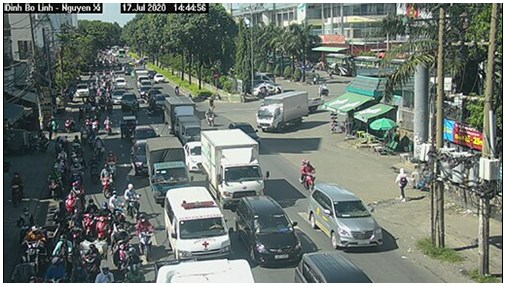di_bo: (396, 165, 411, 204)
xe_ba_gac: (21, 221, 56, 264), (120, 115, 139, 137)
xe_cuu_thuong: (163, 187, 232, 258)
xe_hoi: (308, 185, 383, 250), (233, 195, 301, 266), (295, 253, 375, 283), (128, 138, 150, 178), (185, 141, 203, 171), (120, 91, 141, 115)
xe_may: (129, 208, 159, 259), (5, 165, 31, 207), (123, 245, 148, 286), (89, 195, 114, 236), (78, 194, 101, 236), (51, 229, 75, 269), (60, 179, 87, 214), (105, 187, 128, 227), (87, 131, 111, 164), (52, 196, 71, 236), (296, 155, 316, 190), (90, 261, 120, 284), (126, 175, 141, 218), (67, 157, 88, 185), (115, 234, 132, 268), (97, 160, 115, 192), (105, 145, 122, 176), (41, 168, 59, 197), (84, 244, 99, 277), (104, 115, 120, 137), (50, 158, 65, 178), (63, 113, 75, 136), (105, 93, 116, 118), (54, 133, 66, 153), (169, 83, 184, 99), (69, 133, 80, 154), (90, 113, 100, 135), (205, 107, 217, 125), (84, 112, 92, 127)
xe_tai: (201, 130, 263, 205), (143, 136, 190, 203), (257, 91, 311, 133)
